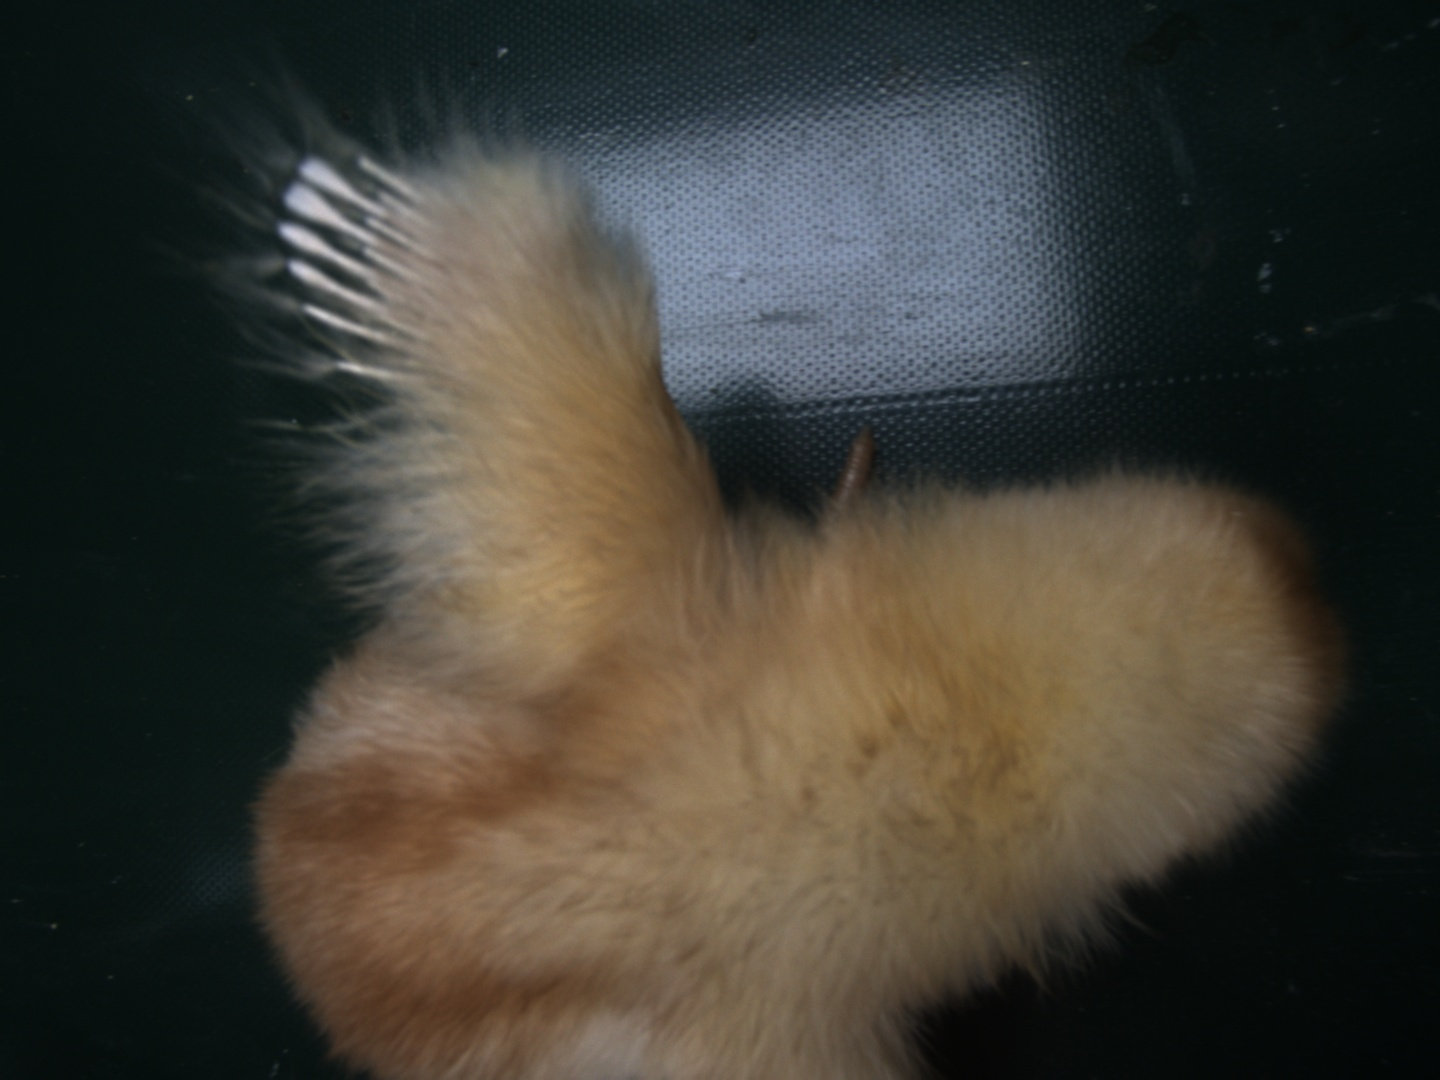female: (270, 149, 452, 397)
